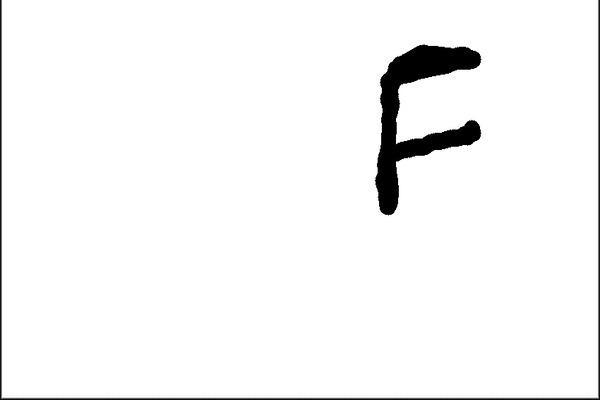F: (369, 40, 485, 218)
